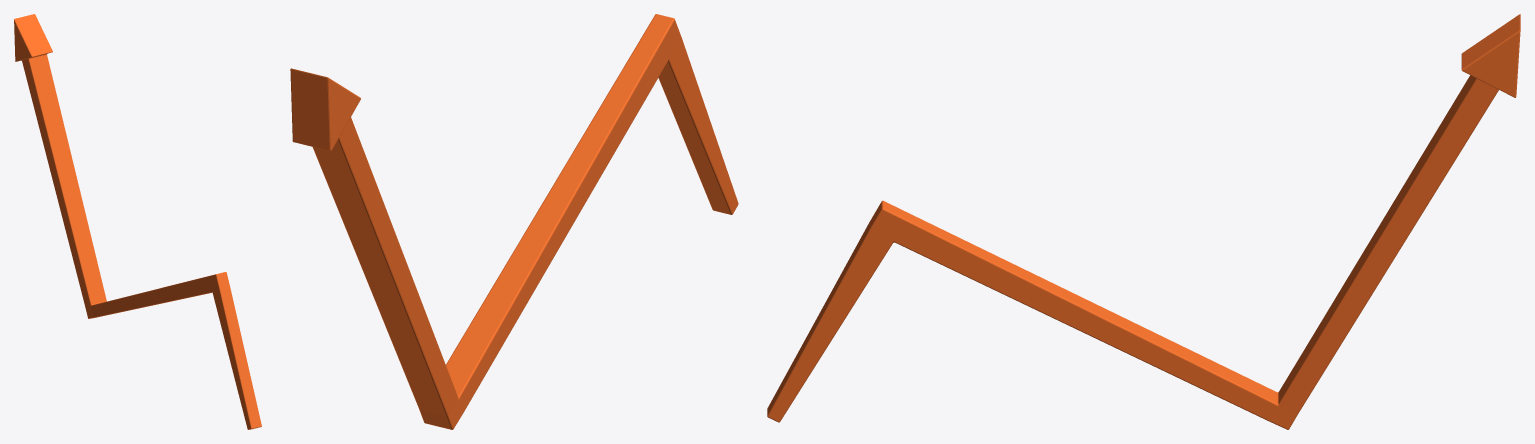
Rendered from StonksArrow.fbx.
The picture shows the model from 3 angles, left to right: view 1: azimuth 30°, elevation 25°; view 2: azimuth 150°, elevation 25°; view 3: azimuth 270°, elevation 25°; orthographic projection. The views are drawn at different scales.
Parts seen in each view (by area): view 1: Cube; view 2: Cube; view 3: Cube.
Part boxes in pixels (x1=…): Cube: x1=14, y1=14, x2=261, y2=429; Cube: x1=290, y1=14, x2=738, y2=429; Cube: x1=767, y1=14, x2=1520, y2=429.
Bounding box in the file's own units: 17.02 × 188 × 319.
